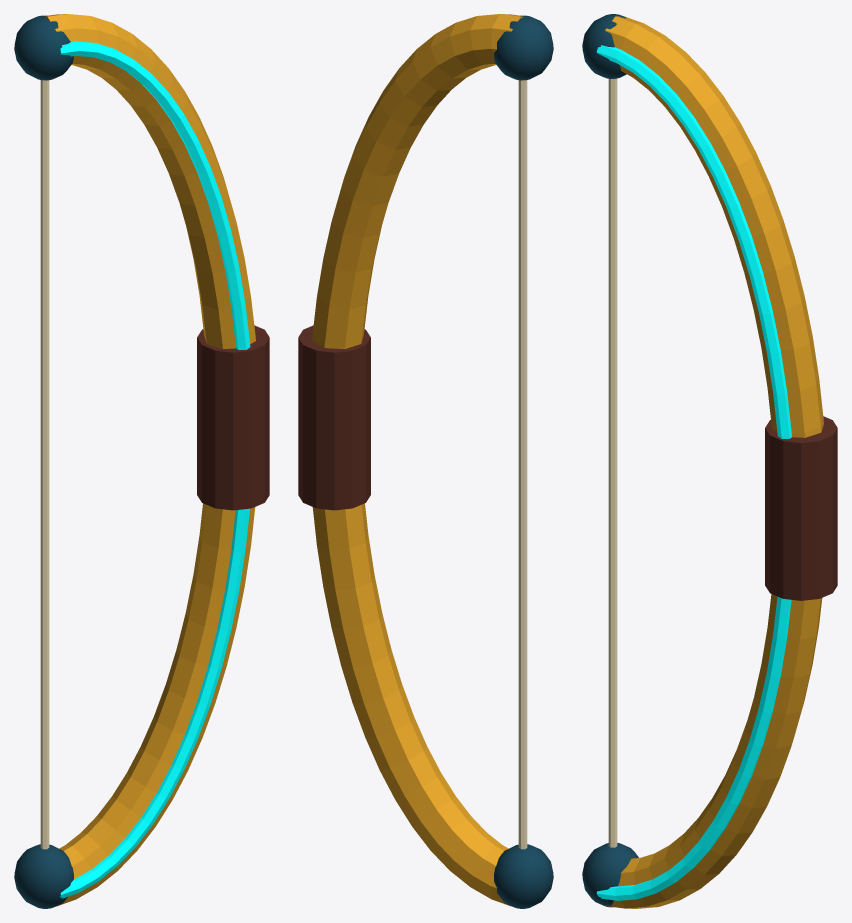
The model's file is bow.glb.
3 views of the same model, side by side, from view 1: azimuth 30°, elevation 25°; view 2: azimuth 150°, elevation 25°; view 3: azimuth 330°, elevation 25° (orthographic).
Visible parts, largest first — view 1: bow; view 2: bow; view 3: bow.
Boxes of the visible parts, x1=… form: bow: x1=14, y1=14, x2=269, y2=908; bow: x1=298, y1=14, x2=553, y2=908; bow: x1=582, y1=14, x2=837, y2=908.
Size of the model in its own units: 0.392 by 1.35 by 0.1.
